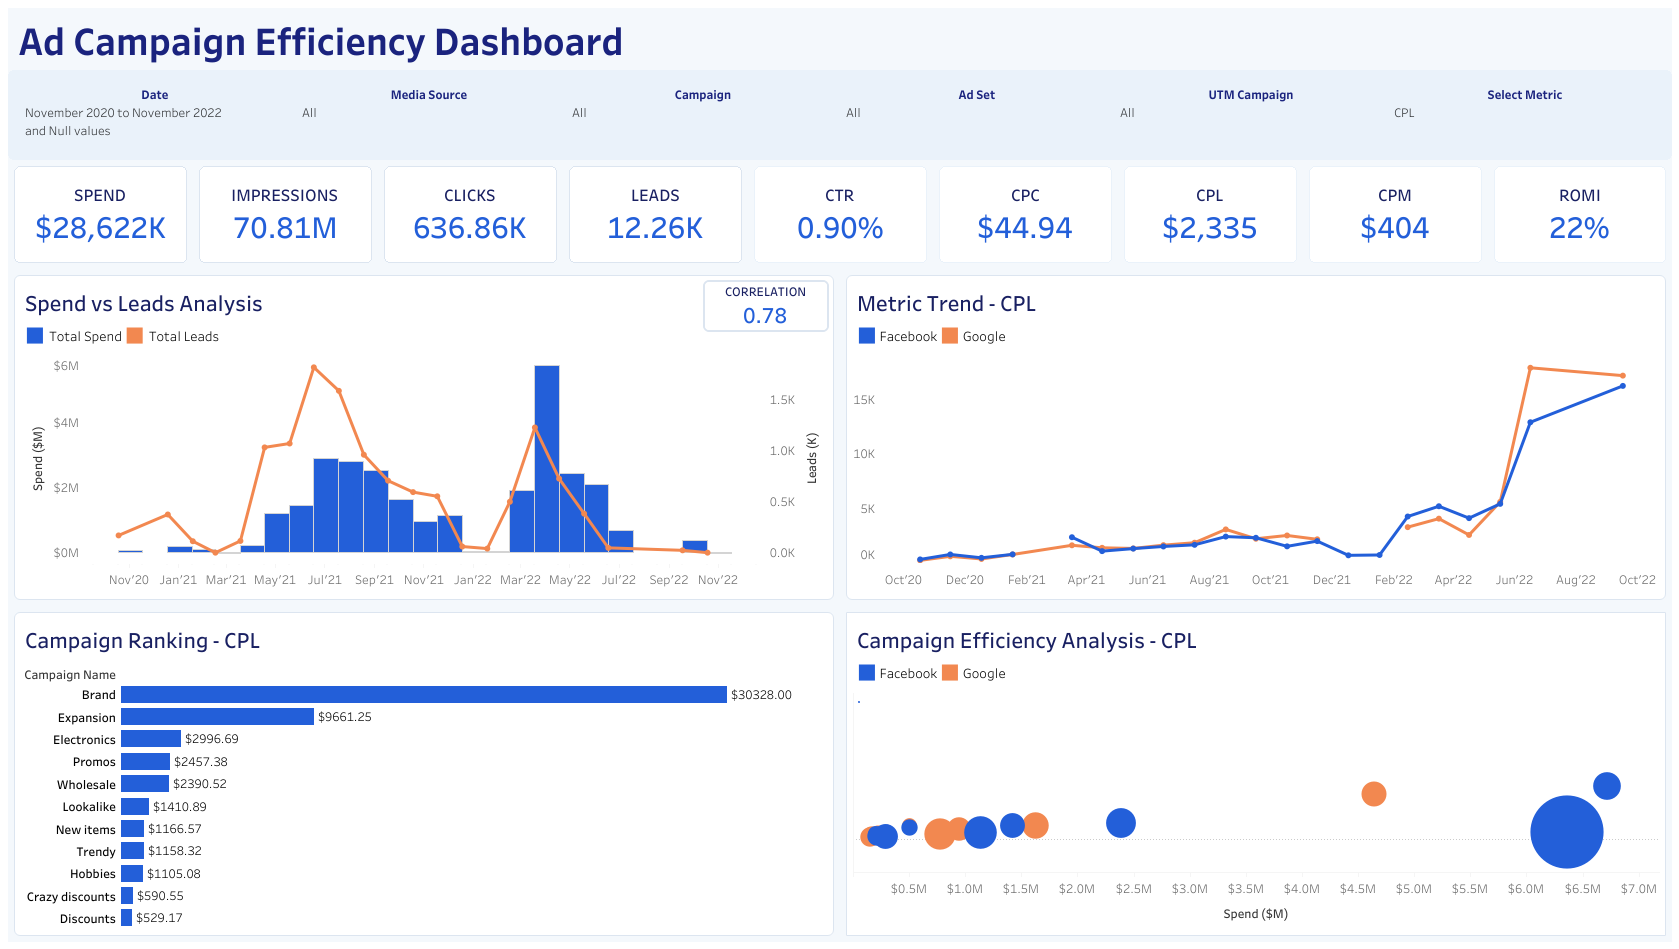

The dashboard page shown, as its layout file describes it:
{"tool":"tableau","page":{"name":"Ad Campaign Efficiency Dashboard","canvas":[1680,950],"ordinal":0},"visuals":[{"type":"text","box":[8,8,1664,62]},{"type":"filter","title":"Spend vs Leads Analysis","param":"[federated.0lj2s6x0hpufpk1d097kr1scmqn2].[tmn:ad_date:qk]","box":[18,80,274,70]},{"type":"filter","title":"Spend vs Leads Analysis","param":"[federated.0lj2s6x0hpufpk1d097kr1scmqn2].[none:media_source:nk]","box":[292,80,274,70]},{"type":"filter","title":"Spend vs Leads Analysis","param":"[federated.0lj2s6x0hpufpk1d097kr1scmqn2].[none:campaign_name:nk]","box":[566,80,274,70]},{"type":"filter","title":"Spend vs Leads Analysis","param":"[federated.0lj2s6x0hpufpk1d097kr1scmqn2].[none:adset_name:nk]","box":[840,80,274,70]},{"type":"filter","title":"Spend vs Leads Analysis","param":"[federated.0lj2s6x0hpufpk1d097kr1scmqn2].[none:utm_campaign:nk]","box":[1114,80,274,70]},{"type":"parameter","param":"[Parameters].[Parameter 0119049897881609]","box":[1388,80,274,70]},{"type":"worksheet","title":"KPI — Spend","mark":"Automatic","box":[8,160,185,109]},{"type":"worksheet","title":"KPI —Impressions","mark":"Automatic","box":[193,160,185,109]},{"type":"worksheet","title":"KPI —Clicks","mark":"Automatic","box":[378,160,185,109]},{"type":"worksheet","title":"KPI — Leads","mark":"Automatic","box":[563,160,185,109]},{"type":"worksheet","title":"KPI — CTR","mark":"Automatic","box":[748,160,185,109]},{"type":"worksheet","title":"KPI — CPC","mark":"Automatic","box":[933,160,185,109]},{"type":"worksheet","title":"KPI — CPL","mark":"Automatic","box":[1118,160,185,109]},{"type":"worksheet","title":"KPI — CPM","mark":"Automatic","box":[1303,160,185,109]},{"type":"worksheet","title":"KPI — ROMI","mark":"Automatic","box":[1488,160,184,109]},{"type":"worksheet","title":"Spend vs Leads Analysis","mark":"Automatic","rows":["total_spend","leads"],"cols":["ad_date"],"box":[8,269,832,337]},{"type":"worksheet","title":"Metric Trend","mark":"Line","rows":["Calculation_0119049899163658"],"cols":["ad_date"],"box":[840,269,832,337]},{"type":"worksheet","title":"Correlation","mark":"Automatic","box":[703,280,126,52]},{"type":"worksheet","title":"Campaign Ranking","mark":"Bar","rows":["campaign_name"],"cols":["Calculation_0119049899163658"],"box":[8,606,832,336]},{"type":"worksheet","title":"Campaign Efficiency Analysis","mark":"Circle","rows":["Calculation_0119049899163658"],"cols":["total_spend"],"box":[840,606,832,336]}]}

Visuals, with their boxes in screenshot pixels (x1, y1, x2, y2), scaled from the page's 1680x950 canvas onto the 1679x949 screenshot:
text: 8,8,1671,70
"Spend vs Leads Analysis" filter: 18,80,292,150
"Spend vs Leads Analysis" filter: 292,80,566,150
"Spend vs Leads Analysis" filter: 566,80,840,150
"Spend vs Leads Analysis" filter: 840,80,1113,150
"Spend vs Leads Analysis" filter: 1113,80,1387,150
parameter: 1387,80,1661,150
"KPI — Spend" worksheet: 8,160,193,269
"KPI —Impressions" worksheet: 193,160,378,269
"KPI —Clicks" worksheet: 378,160,563,269
"KPI — Leads" worksheet: 563,160,748,269
"KPI — CTR" worksheet: 748,160,932,269
"KPI — CPC" worksheet: 932,160,1117,269
"KPI — CPL" worksheet: 1117,160,1302,269
"KPI — CPM" worksheet: 1302,160,1487,269
"KPI — ROMI" worksheet: 1487,160,1671,269
"Spend vs Leads Analysis" worksheet: 8,269,840,605
"Metric Trend" worksheet (Line marks): 840,269,1671,605
"Correlation" worksheet: 703,280,829,332
"Campaign Ranking" worksheet (Bar marks): 8,605,840,941
"Campaign Efficiency Analysis" worksheet (Circle marks): 840,605,1671,941
